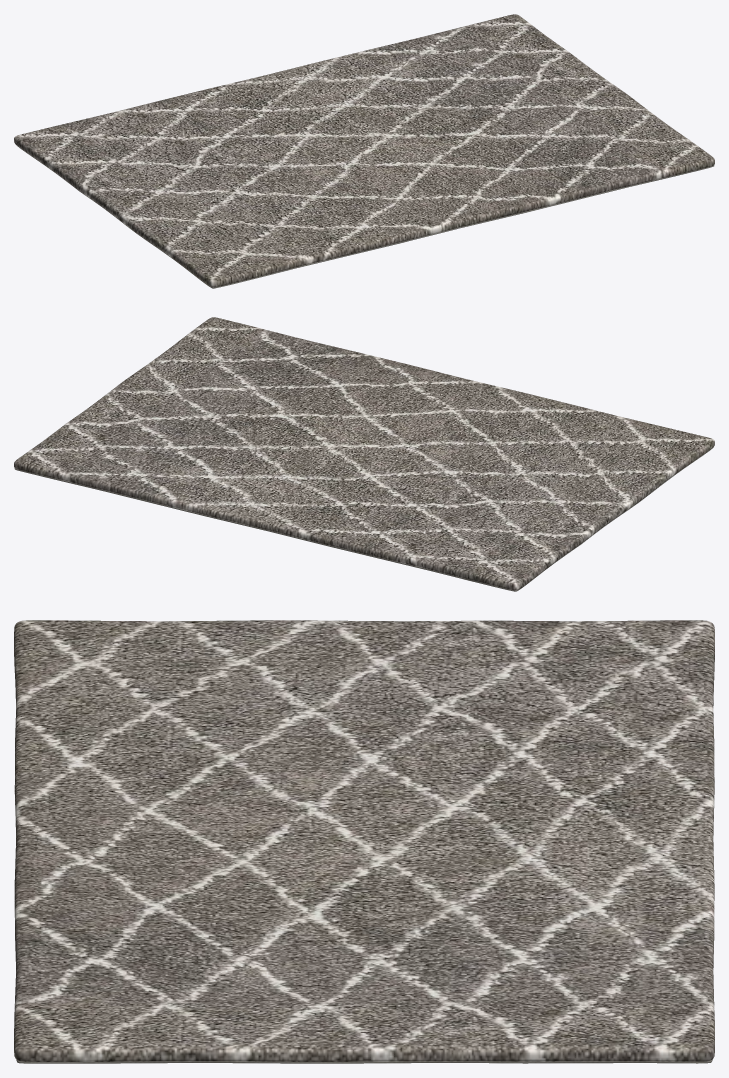
Rendered from B07TS7ZCVM.glb.
3 views of the same model, one above another, from view 1: azimuth 30°, elevation 25°; view 2: azimuth 150°, elevation 25°; view 3: azimuth 270°, elevation 25° (orthographic). The views are drawn at different scales.
Parts seen in each view (by area): view 1: RootNode; view 2: RootNode; view 3: RootNode.
Part boxes in pixels (<box>): RootNode: <box>14,14,714,288</box>; RootNode: <box>14,317,714,591</box>; RootNode: <box>14,620,714,1063</box>.
Size of the model in its own units: 1.78 by 0.03 by 1.22.
1 material, 1 textured.
